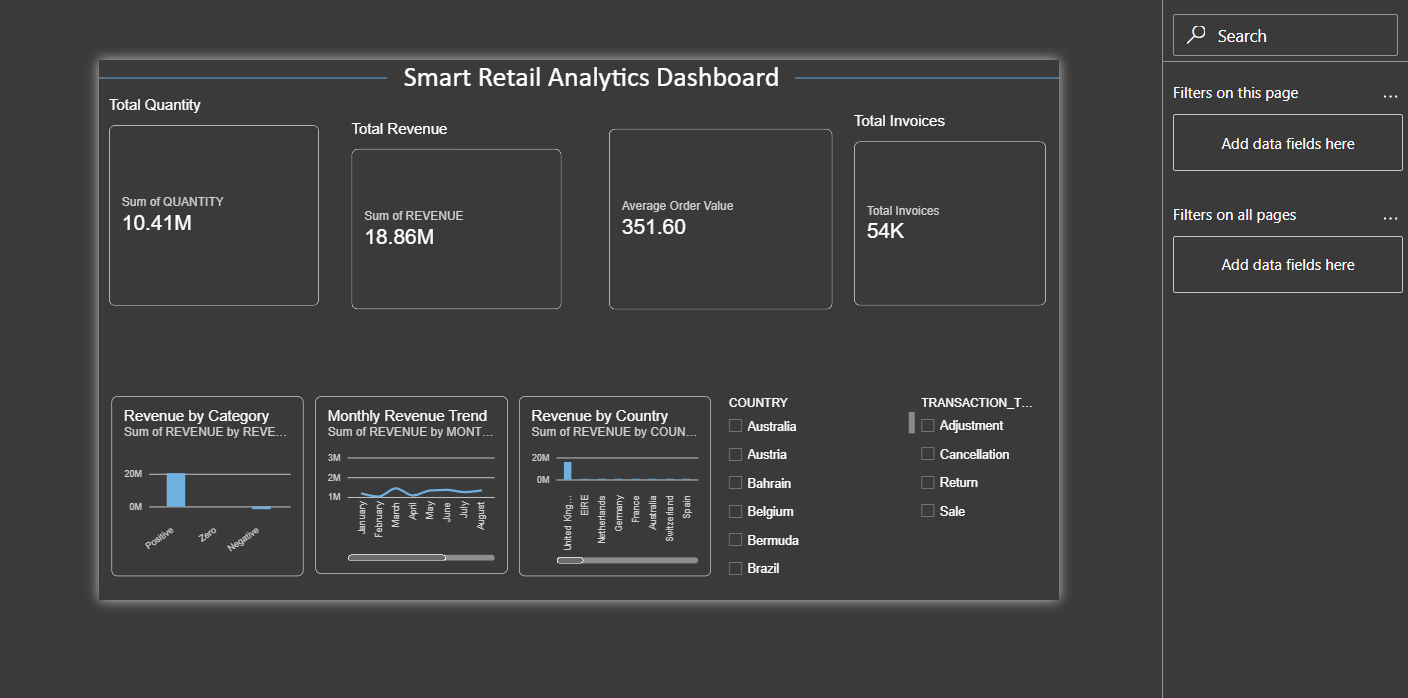

The page's visual inventory and layout, read from the dashboard file:
{"tool":"powerbi","page":{"name":"Page 1","canvas":[1280,720],"ordinal":0},"visuals":[{"type":"cardVisual","title":"Total Quantity","fields":{"Data":["Sum(RETAIL_CLEANED.QUANTITY)"]},"box":[13.3,48.3,280,280],"z":2000},{"type":"cardVisual","title":"Total Invoices","fields":{"Data":["RETAIL_CLEANED.Total Invoices"]},"box":[1006.7,70,256.7,258.3],"z":4000},{"type":"clusteredColumnChart","title":"Revenue by Category","fields":{"Y":["Sum(RETAIL_CLEANED.REVENUE)"],"Category":["RETAIL_CLEANED.REVENUE_CATEGORY"]},"box":[16,448,256,240],"z":5000},{"type":"lineChart","title":"Monthly Revenue Trend","fields":{"Y":["Sum(RETAIL_CLEANED.REVENUE)"],"Category":["RETAIL_CLEANED.MONTH_NAME"]},"box":[288,448,256.7,236.7],"z":7000},{"type":"cardVisual","title":"Total Revenue","fields":{"Data":["Sum(RETAIL_CLEANED.REVENUE)"]},"box":[336,80,280,253.3],"z":8000},{"type":"slicer","fields":{"Values":["RETAIL_CLEANED.COUNTRY"]},"box":[832,448,256,240],"z":8001},{"type":"clusteredColumnChart","title":"Revenue by Country","fields":{"Category":["RETAIL_CLEANED.COUNTRY"],"Y":["Sum(RETAIL_CLEANED.REVENUE)"]},"box":[560,448,256,240],"z":8002},{"type":"cardVisual","fields":{"Data":["RETAIL_CLEANED.Average Order Value"]},"box":[680,91.7,298.3,241.7],"z":8003},{"type":"textbox","box":[336,0,640,48],"z":8004},{"type":"shape","box":[0,0,384,48],"z":8005},{"type":"shape","box":[928,0,352,48],"z":8006},{"type":"slicer","fields":{"Values":["RETAIL_CLEANED.TRANSACTION_TYPE"]},"box":[1088,448,176,272],"z":8007}]}

Visuals, with their boxes on the page's 1280x720 design canvas (x1, y1, x2, y2). These are canvas units, not pixel positions in the 1408x698 screenshot, which may show the page scaled, cropped or inside an application window:
"Total Quantity" cardVisual: region(13, 48, 293, 328)
"Total Invoices" cardVisual: region(1007, 70, 1263, 328)
"Revenue by Category" clusteredColumnChart: region(16, 448, 272, 688)
"Monthly Revenue Trend" lineChart: region(288, 448, 545, 685)
"Total Revenue" cardVisual: region(336, 80, 616, 333)
slicer - RETAIL_CLEANED.COUNTRY: region(832, 448, 1088, 688)
"Revenue by Country" clusteredColumnChart: region(560, 448, 816, 688)
cardVisual - RETAIL_CLEANED.Average Order Value: region(680, 92, 978, 333)
textbox: region(336, 0, 976, 48)
shape: region(0, 0, 384, 48)
shape: region(928, 0, 1280, 48)
slicer - RETAIL_CLEANED.TRANSACTION_TYPE: region(1088, 448, 1264, 720)
